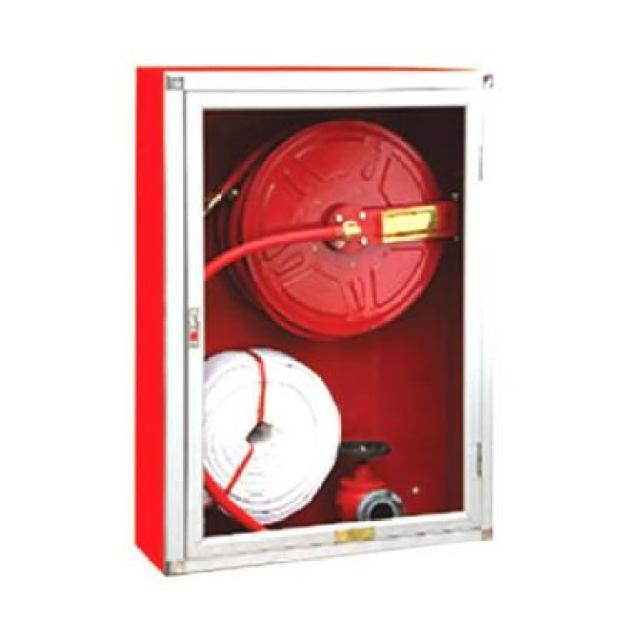firehydrant: (130, 60, 512, 584)
